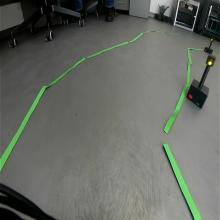green: (205, 54, 216, 68)
